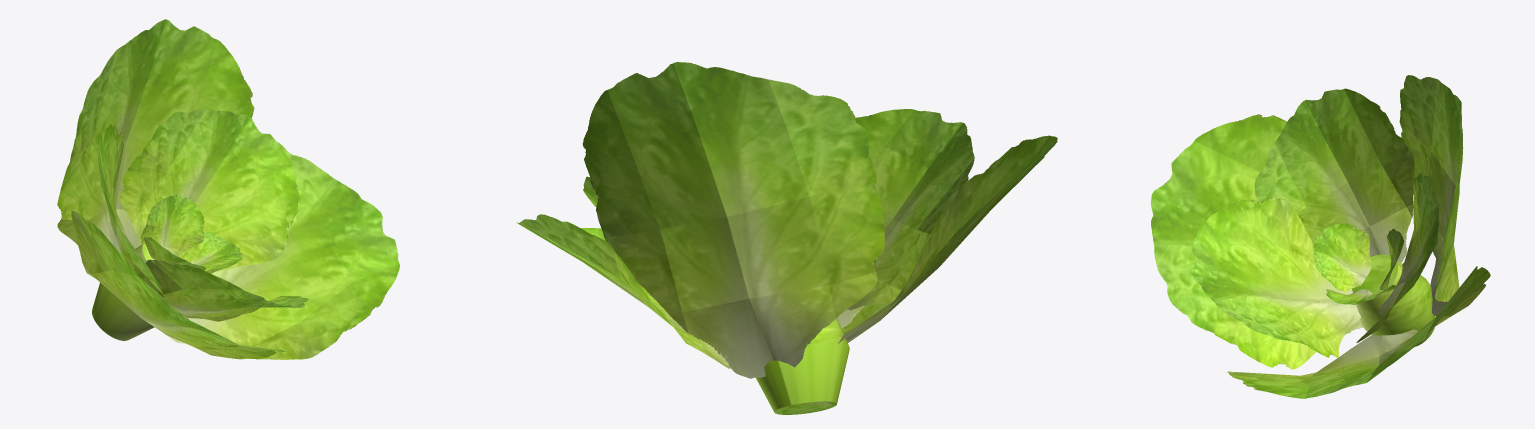
The model's file is lechuga.gltf.
The picture shows the model from 3 angles, left to right: view 1: azimuth 30°, elevation 25°; view 2: azimuth 150°, elevation 25°; view 3: azimuth 270°, elevation 25°; orthographic projection. The views are drawn at different scales.
Parts seen in each view (by area): view 1: lechuga; view 2: lechuga; view 3: lechuga.
Part boxes in pixels (x1=…): lechuga: x1=57, y1=19, x2=399, y2=359; lechuga: x1=516, y1=62, x2=1057, y2=414; lechuga: x1=1150, y1=75, x2=1490, y2=398.
Size of the model in its own units: 5.75 by 5.36 by 5.82.
Materials: 1 (1 with a texture image).
